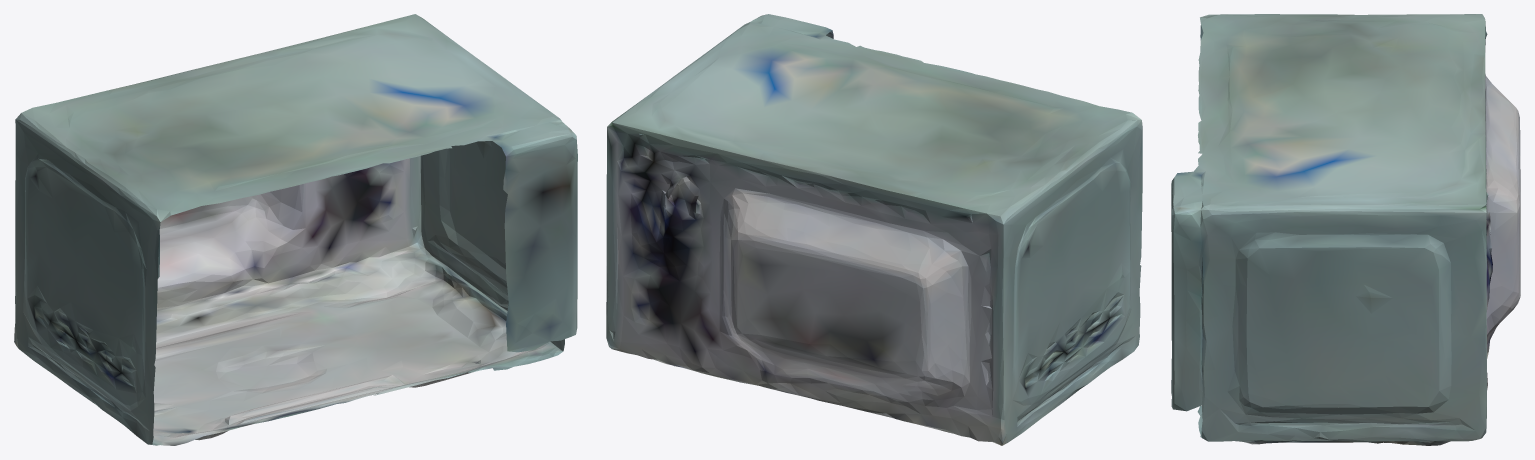
The model's file is scan.obj.
3 views of the same model, side by side, from view 1: azimuth 30°, elevation 25°; view 2: azimuth 150°, elevation 25°; view 3: azimuth 270°, elevation 25° (orthographic). The views are drawn at different scales.
Parts seen in each view (by area): view 1: scan.ply; view 2: scan.ply; view 3: scan.ply.
Boxes of the visible parts, x1,y1,x2,y2 form: scan.ply: (14,14,577,445); scan.ply: (606,14,1142,445); scan.ply: (1171,14,1520,445).
Bounding box in the file's own units: 0.4414 × 0.2599 × 0.3257.
